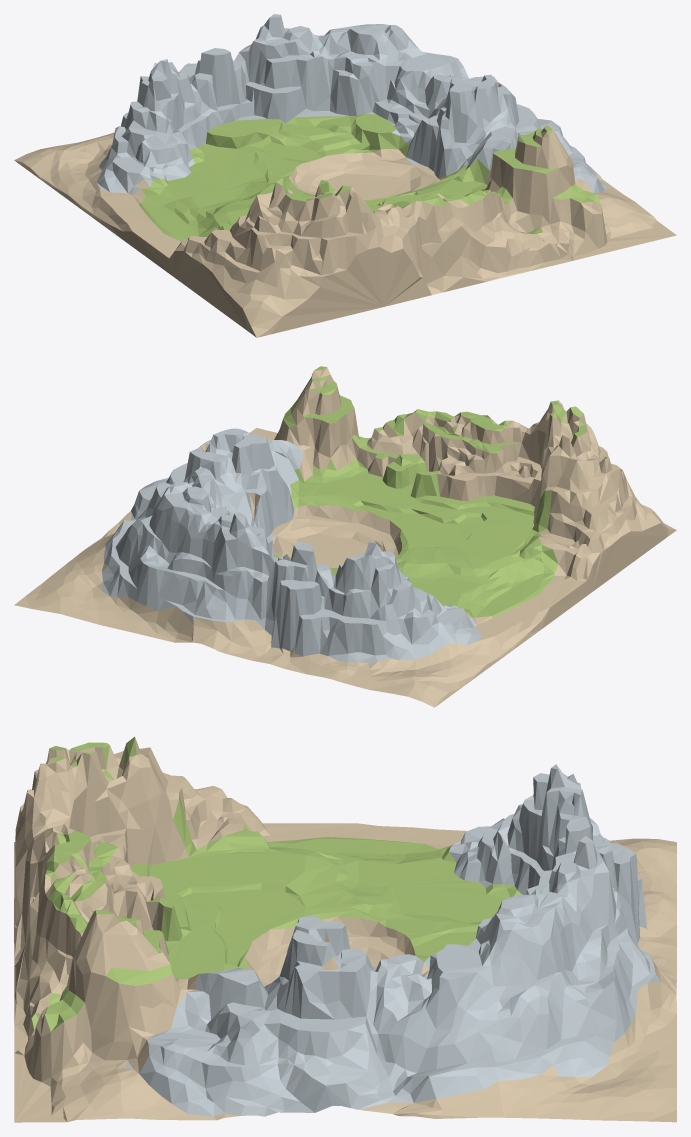
File: f_howling_map.fbx
3 renders of one model, top to bottom at view 1: azimuth 30°, elevation 25°; view 2: azimuth 150°, elevation 25°; view 3: azimuth 270°, elevation 25°, orthographic. The views are drawn at different scales.
Visible parts, largest first — view 1: howling_map_Terrain_Full; view 2: howling_map_Terrain_Full; view 3: howling_map_Terrain_Full.
Part boxes in pixels (left/top/right/bottom): howling_map_Terrain_Full: left=14, top=14, right=676, bottom=337; howling_map_Terrain_Full: left=14, top=366, right=676, bottom=707; howling_map_Terrain_Full: left=14, top=736, right=676, bottom=1122.
Size of the model in its own units: 70096 by 18037 by 70038.
